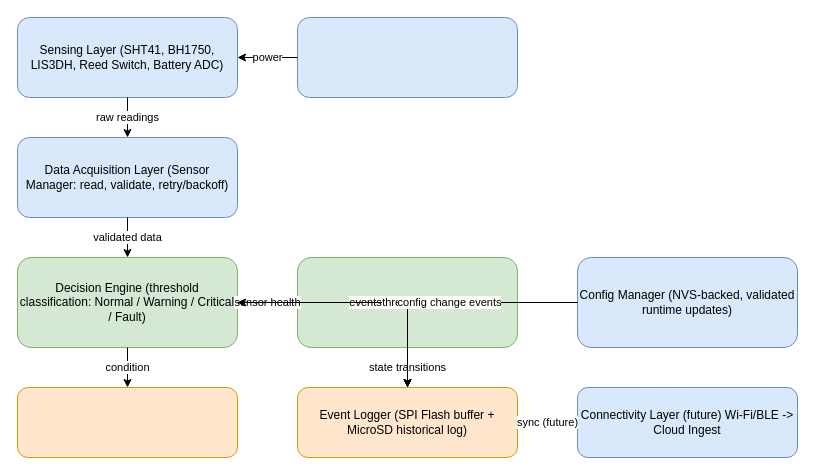
The diagram is 815 pixels wide and 475 high, and some of its shapes have lost their labels. The shapes that lost their labels are listed below. From the top down, each one's centre as x and y in pixels, then its label:
At pixel 407 57: "Power Subsystem 12-24V in -> buck -> 3.3V, battery-backed".
At pixel 407 302: "Device State Machine (BOOT / RUNNING / DEGRADED / FAULT / CONFIG)".
At pixel 127 422: "Alert Manager (RGB LED, Buzzer)".
